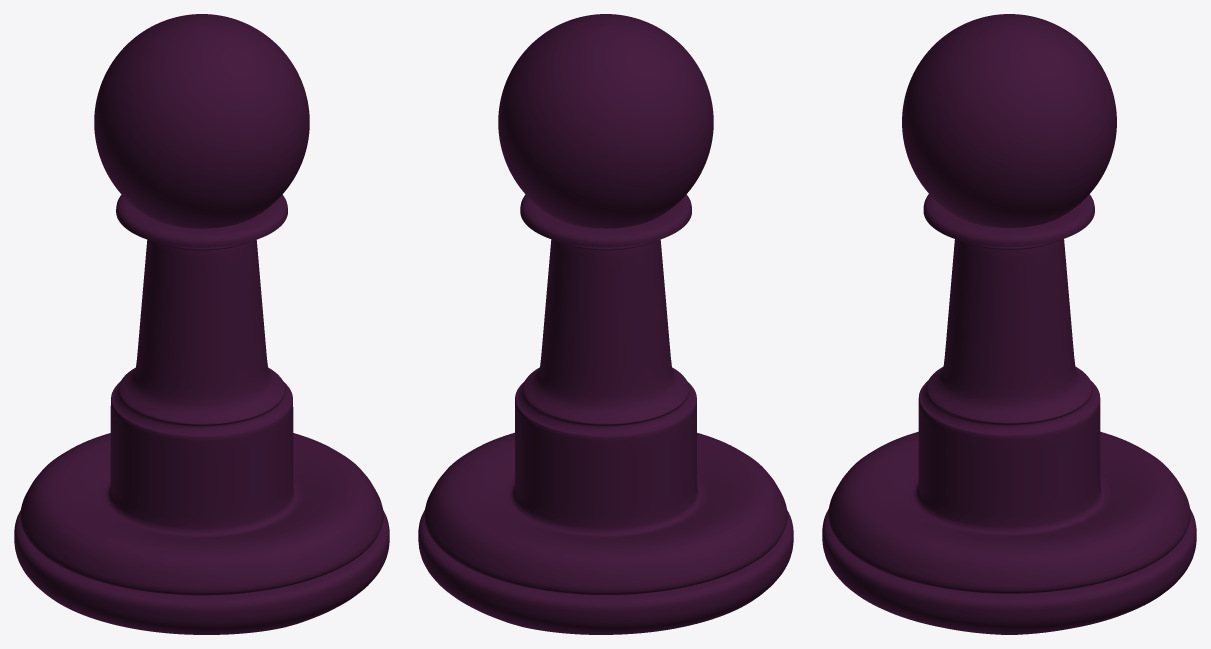
Rendered from Pawn_SpaceOddyssey.fbx.
3 renders of one model, left to right at view 1: azimuth 30°, elevation 25°; view 2: azimuth 150°, elevation 25°; view 3: azimuth 270°, elevation 25°, orthographic.
Parts seen in each view (by area): view 1: Pawn; view 2: Pawn; view 3: Pawn.
Part boxes in pixels (x1,y1,x2,y2): Pawn: [14, 14, 389, 634]; Pawn: [418, 14, 793, 634]; Pawn: [822, 14, 1196, 634].
Bounding box in the file's own units: 188 × 301 × 188.
